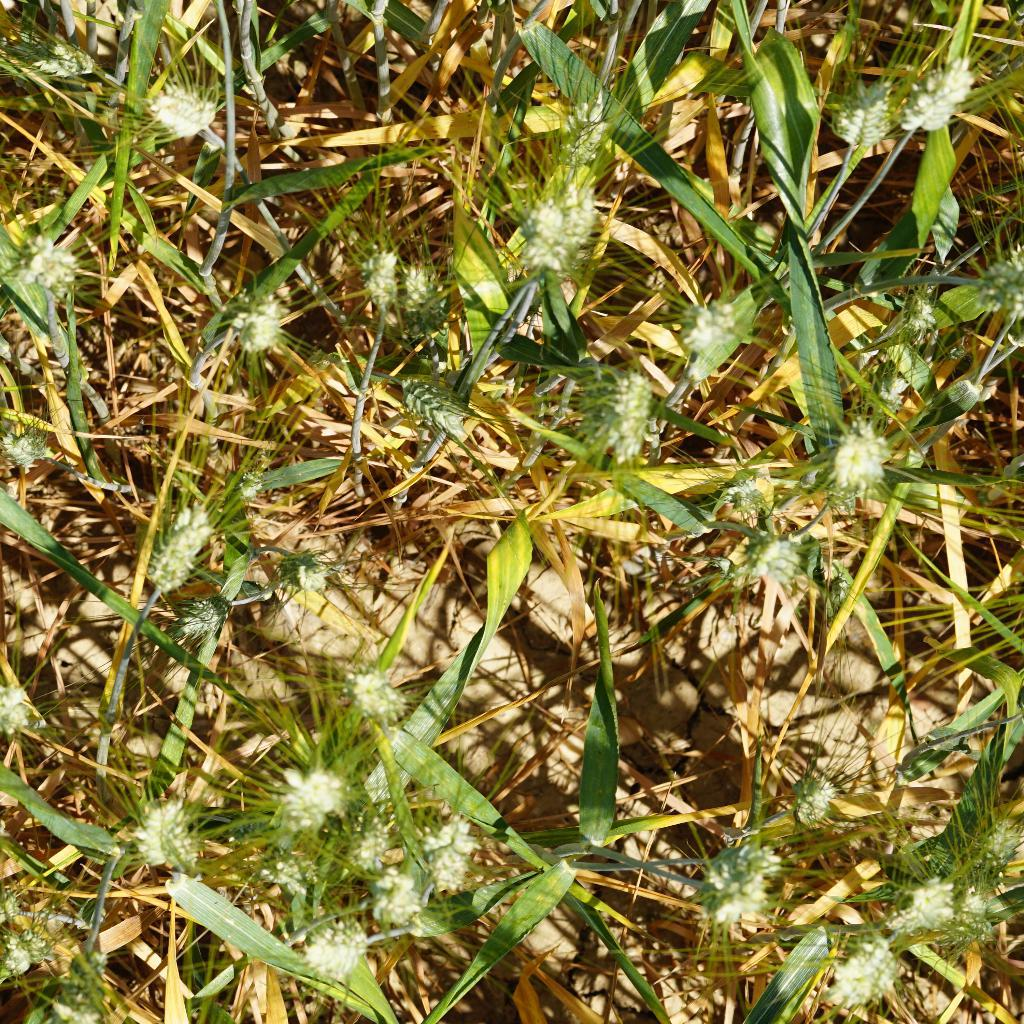0-0: (131, 500, 224, 593), (380, 365, 486, 443), (406, 807, 484, 897), (900, 52, 975, 141), (538, 94, 624, 171), (594, 362, 660, 462), (832, 923, 900, 1013), (828, 68, 896, 156), (272, 766, 347, 843), (291, 918, 389, 976), (131, 795, 201, 871), (668, 284, 744, 352), (392, 254, 452, 340), (12, 26, 90, 90), (262, 534, 333, 604), (144, 75, 221, 139), (783, 766, 856, 833), (253, 844, 328, 908), (829, 417, 892, 493), (736, 529, 813, 591), (150, 582, 230, 641), (957, 813, 1021, 885), (17, 228, 82, 298), (350, 240, 404, 324), (347, 671, 415, 735), (219, 287, 287, 350), (675, 884, 766, 931), (846, 362, 919, 420), (556, 176, 605, 260), (702, 844, 791, 890), (512, 190, 561, 273), (0, 411, 64, 474), (336, 814, 396, 878), (952, 892, 1009, 959), (367, 871, 428, 933), (230, 458, 290, 514), (896, 279, 945, 347), (901, 867, 953, 927), (716, 460, 772, 515), (1, 927, 54, 985), (0, 681, 48, 742), (982, 254, 1024, 321)
